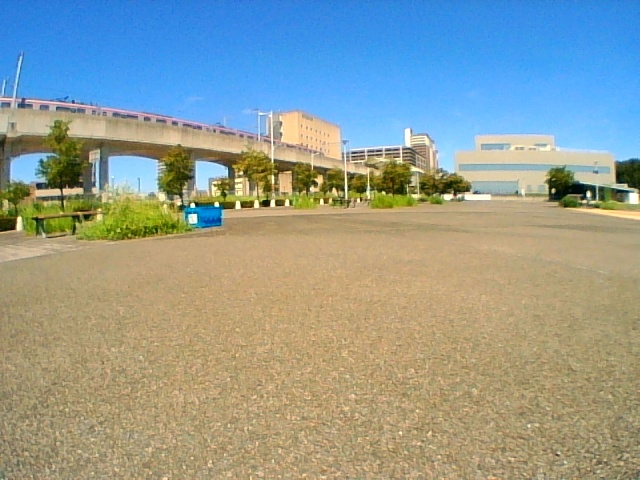blue_box: (186, 207, 221, 227)
tag: (189, 214, 196, 225)
